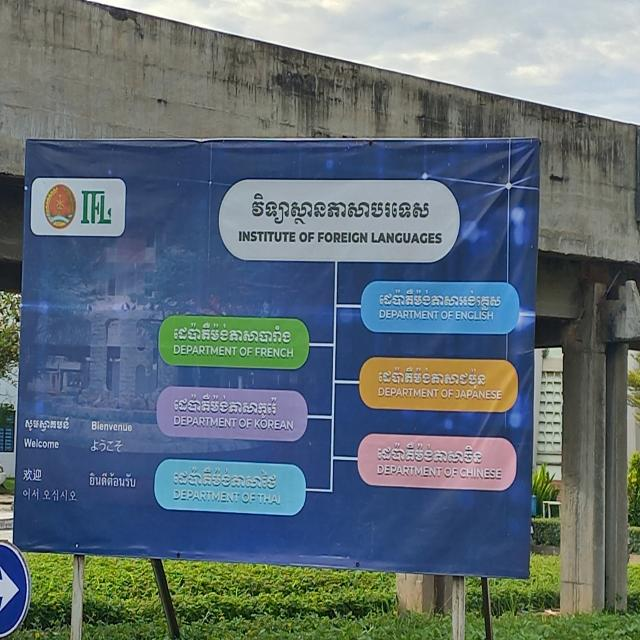Yolov11kh: (250, 190, 433, 224), (375, 364, 495, 391), (172, 392, 281, 420), (378, 287, 504, 311), (172, 464, 282, 491), (375, 438, 485, 464), (172, 321, 294, 343), (22, 413, 73, 436)
